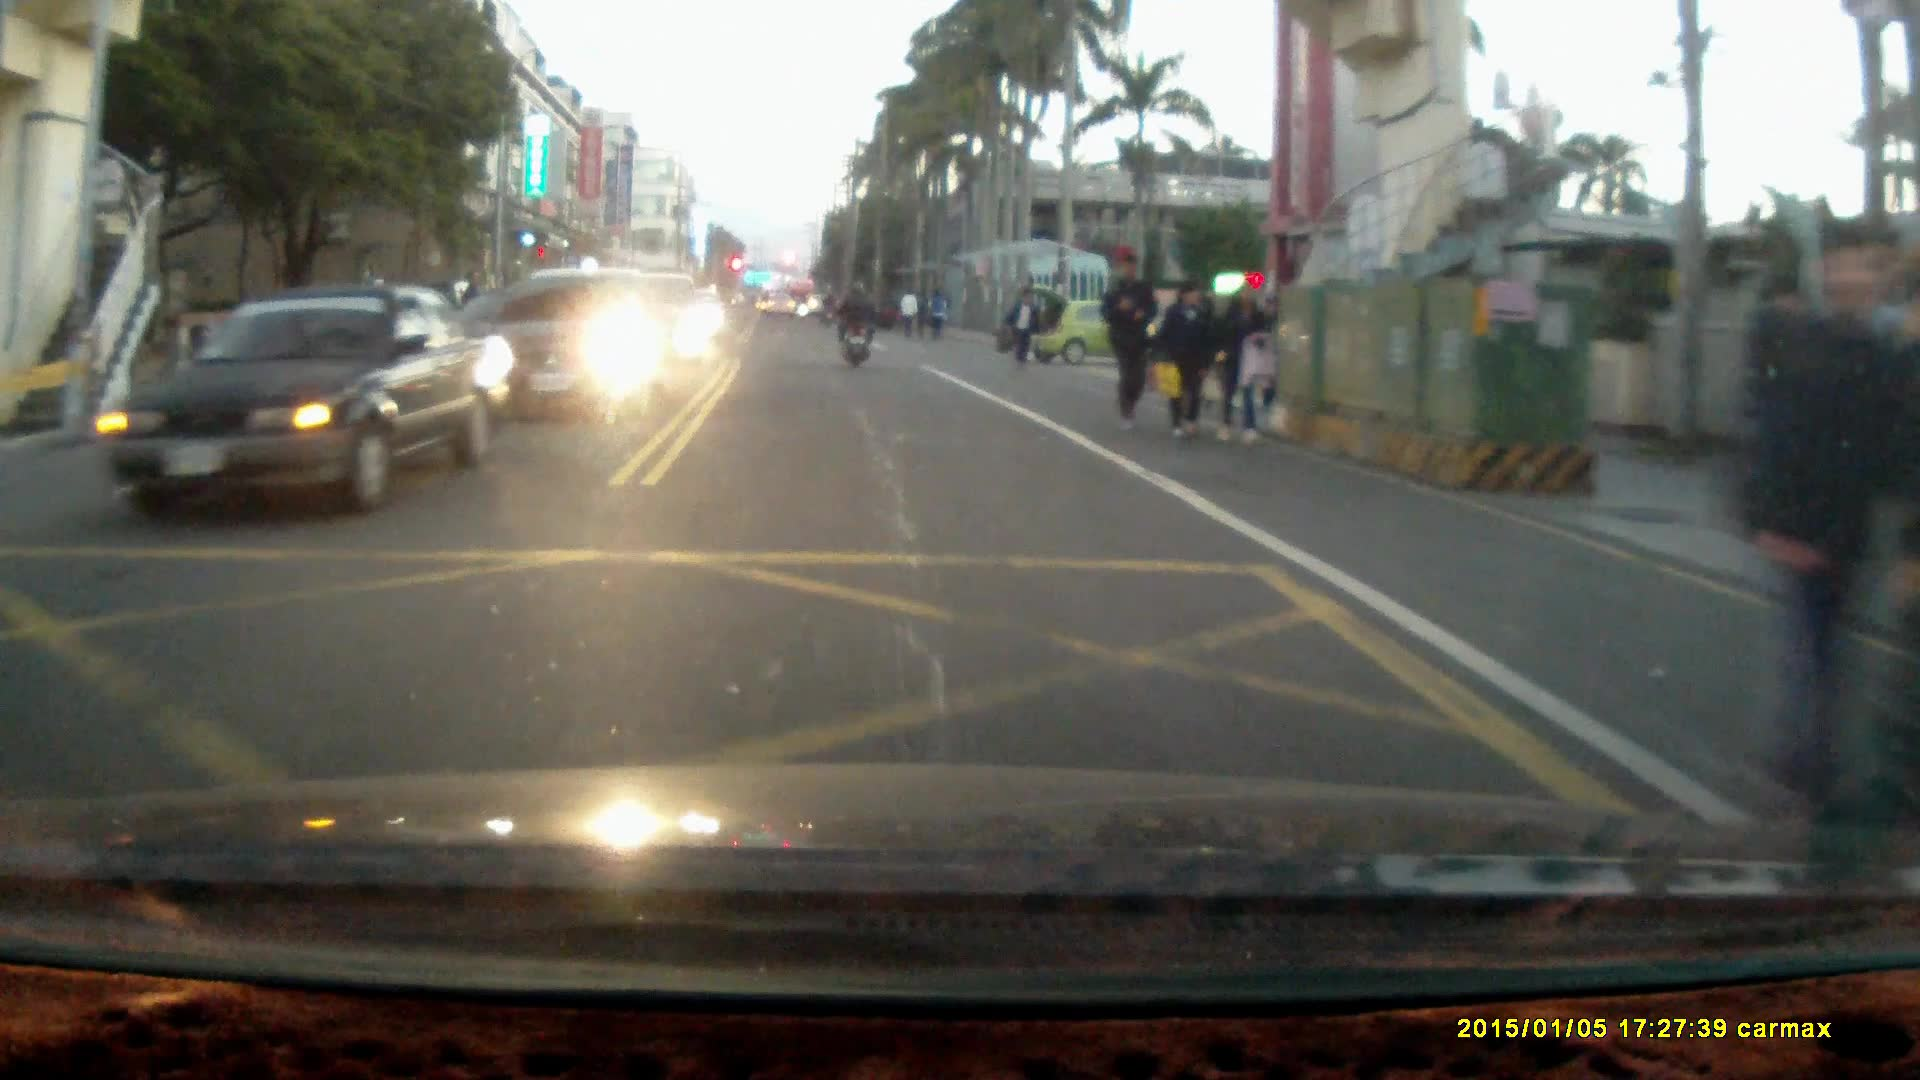pedestrian: (1749, 223, 1898, 849), (1099, 249, 1159, 432), (1218, 279, 1276, 449), (1160, 284, 1221, 441), (1005, 286, 1036, 370)
rider: (835, 277, 876, 369)
vehicle: (105, 288, 501, 521), (473, 270, 672, 420), (1021, 284, 1176, 368), (597, 268, 704, 368)
